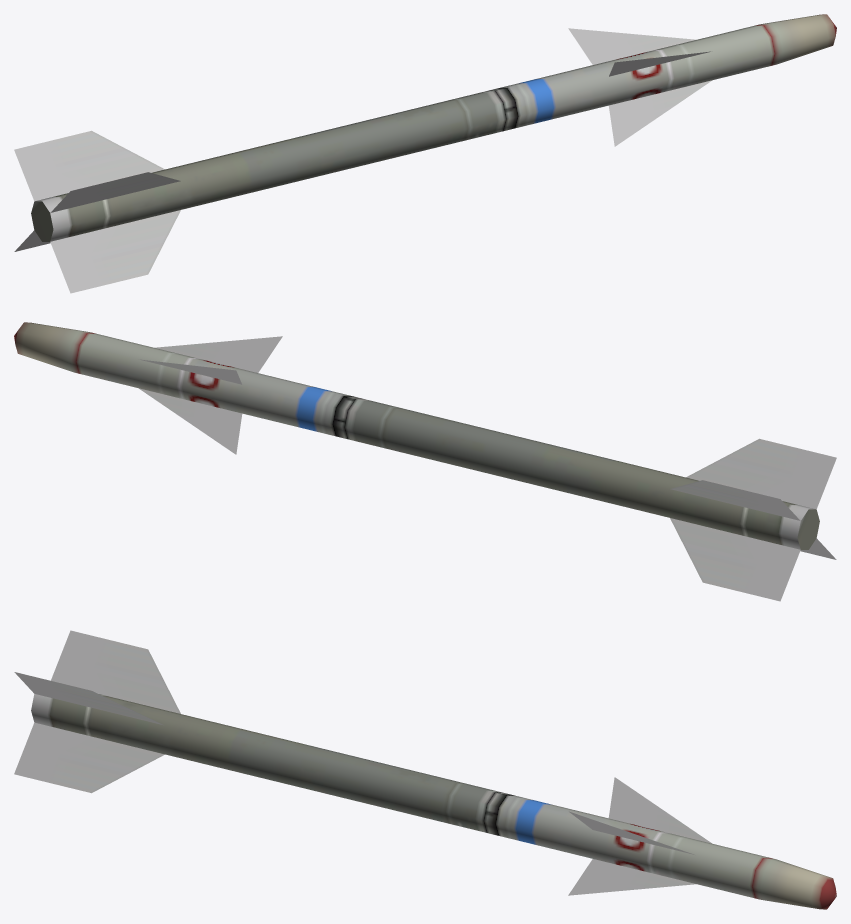
File: projectile_sidewinder_missile_LOD0.obj
The picture shows the model from 3 angles, top to bottom: view 1: azimuth 30°, elevation 25°; view 2: azimuth 150°, elevation 25°; view 3: azimuth 330°, elevation 25°; orthographic projection.
Visible parts, largest first — view 1: mtl_sidewinder_missile; view 2: mtl_sidewinder_missile; view 3: mtl_sidewinder_missile.
Boxes of the visible parts, x1=… form: mtl_sidewinder_missile: x1=14, y1=14, x2=836, y2=293; mtl_sidewinder_missile: x1=14, y1=322, x2=836, y2=601; mtl_sidewinder_missile: x1=14, y1=630, x2=836, y2=909.
Size of the model in its own units: 288 by 35.55 by 35.55.
